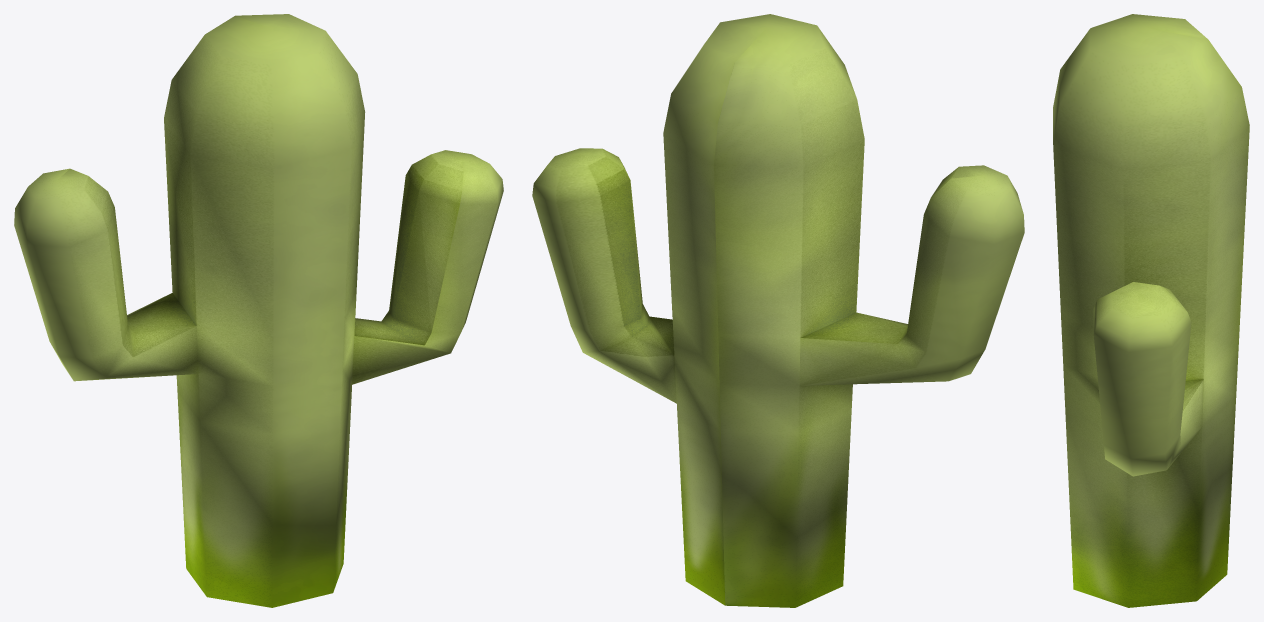
The model's file is Cactus.glb.
The picture shows the model from 3 angles, left to right: view 1: azimuth 30°, elevation 25°; view 2: azimuth 150°, elevation 25°; view 3: azimuth 270°, elevation 25°; orthographic projection.
Visible parts, largest first — view 1: Cylinder.001; view 2: Cylinder.001; view 3: Cylinder.001.
Boxes of the visible parts, box(x1,y1,x2,y2) form: Cylinder.001: box(14, 14, 503, 607); Cylinder.001: box(532, 14, 1024, 607); Cylinder.001: box(1053, 14, 1249, 607).
Bounding box in the file's own units: 1.79 × 1.96 × 0.6393.
Materials: 1 (1 with a texture image).
